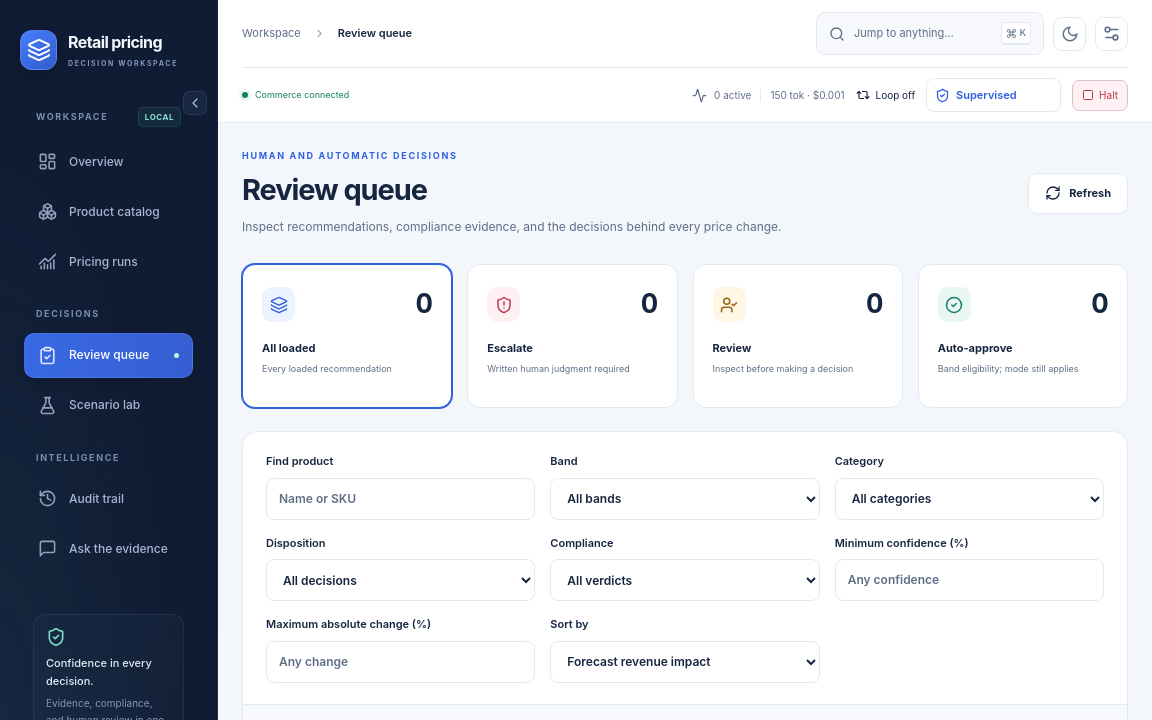
Test case: Ctrl+K searches settings, handles no matches, and does not interrupt another modal
Later steps or results of the test are not shown.
expect the heading "Review queue" is shown: met, box [242,172,427,206]
Type keys "{Control>}k{/Control}"
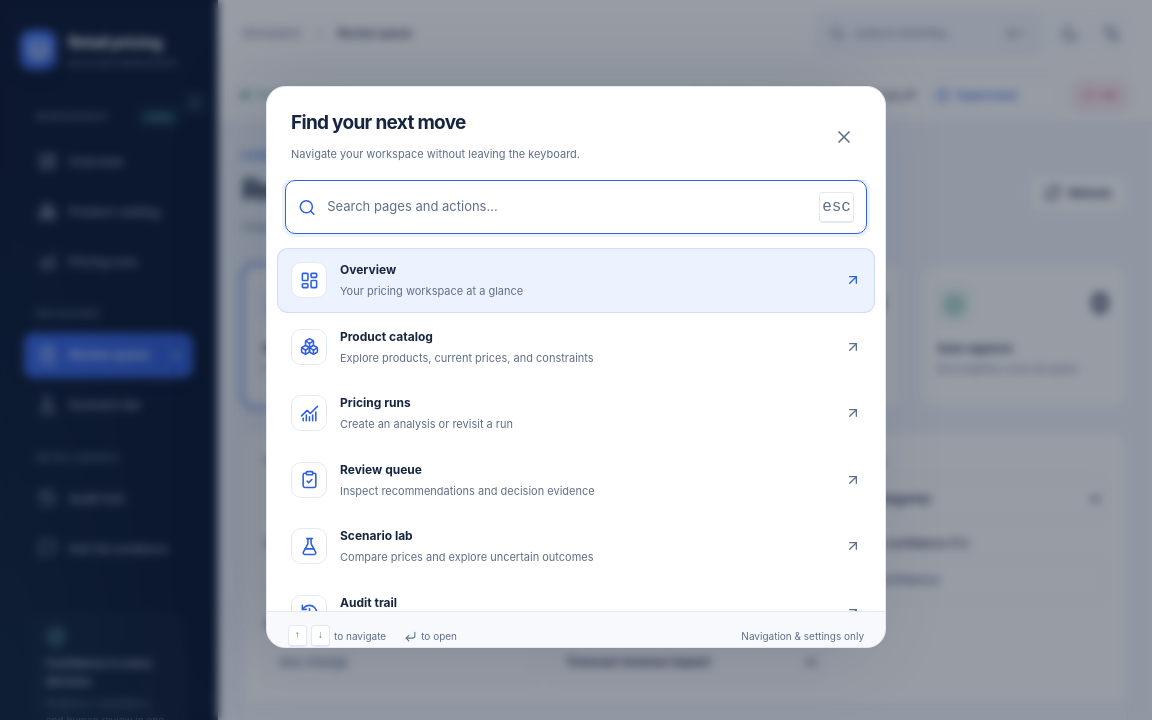
Type "no-such-workspace-action" into the dropdown named "Search workspace" at (568, 207), box [327,186,808,228]
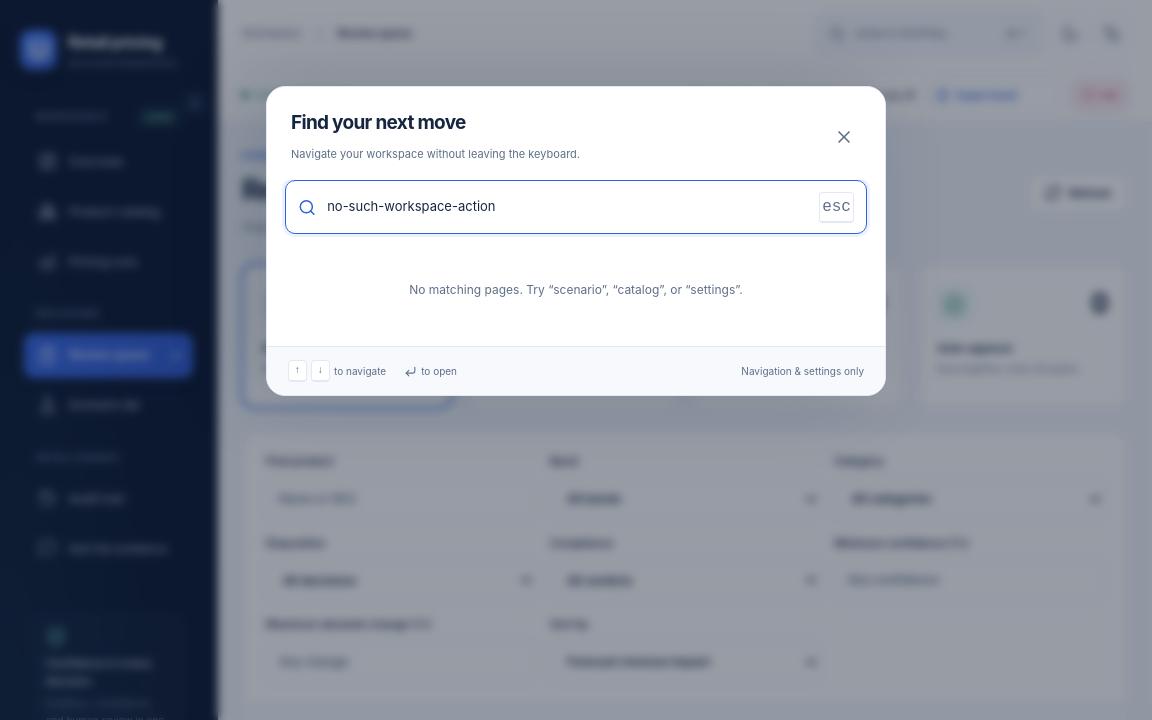
expect the text "No matching pages. Try “scenario”, “catalog”, or “settings”." is shown: met, box [409,282,743,297]
Press Enter
expect the dialog is shown: met, box [266,86,886,396]
Replace the text in the dropdown named "Search workspace" with "Workspace settings" at (568, 207), box [327,186,808,228]
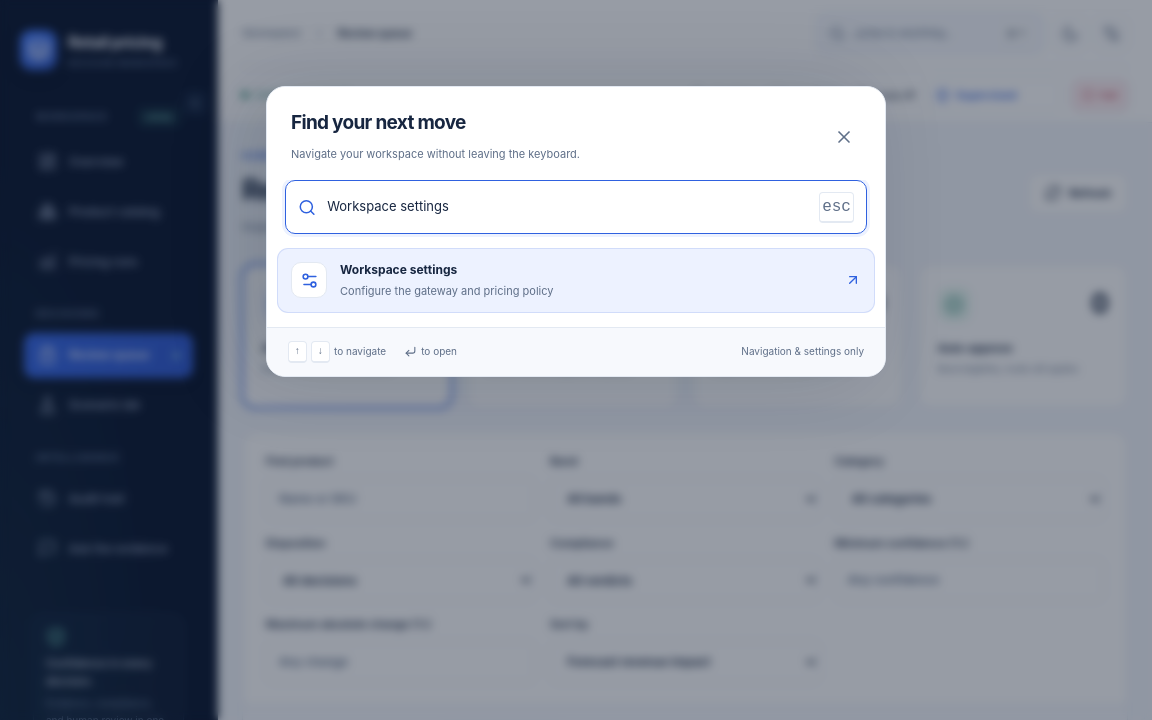
Press Enter
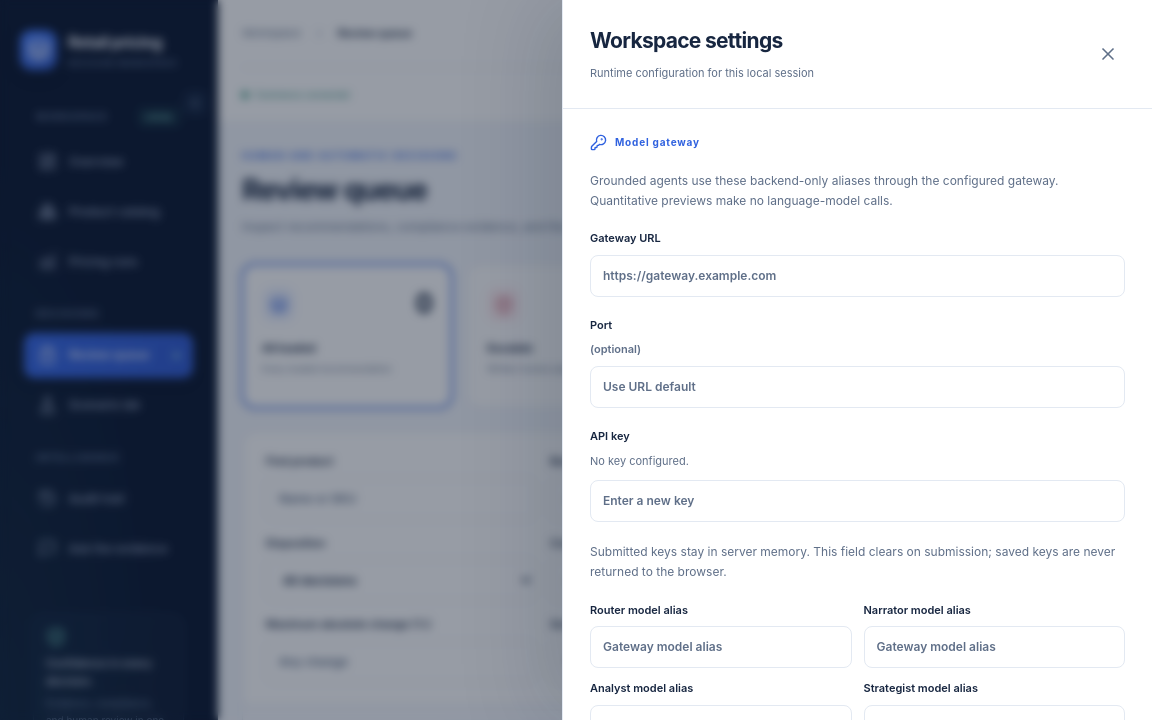
expect the dialog "Workspace settings" is shown: met, box [562,0,1151,719]
